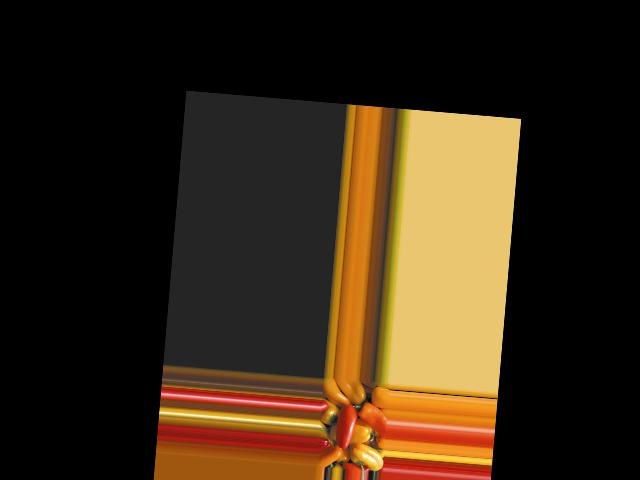bell_pepper: (351, 441, 383, 472)
